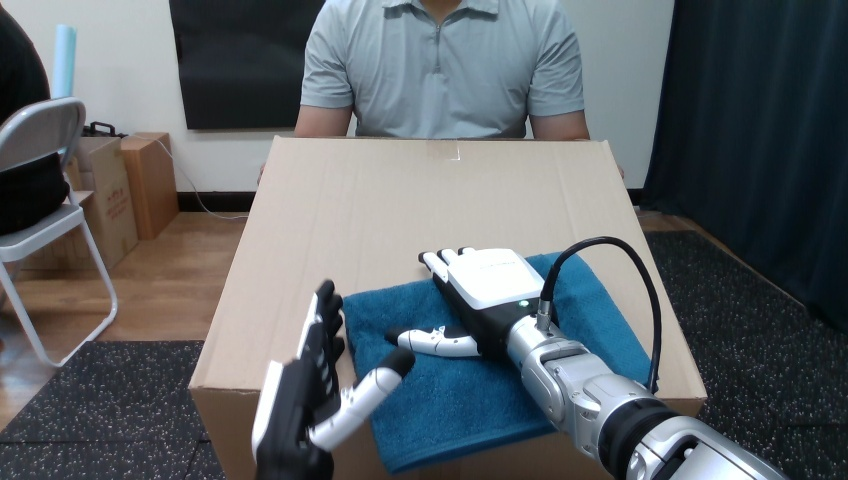left robot arm: (387, 236, 785, 479), (252, 280, 414, 479), (552, 244, 653, 388)
left robot hand: (386, 236, 784, 479), (252, 280, 414, 479), (552, 244, 653, 387)
right robot arm: (387, 236, 785, 479), (252, 280, 414, 479), (552, 244, 653, 387)
right robot hand: (387, 236, 785, 479), (252, 280, 414, 479), (552, 244, 653, 387)
